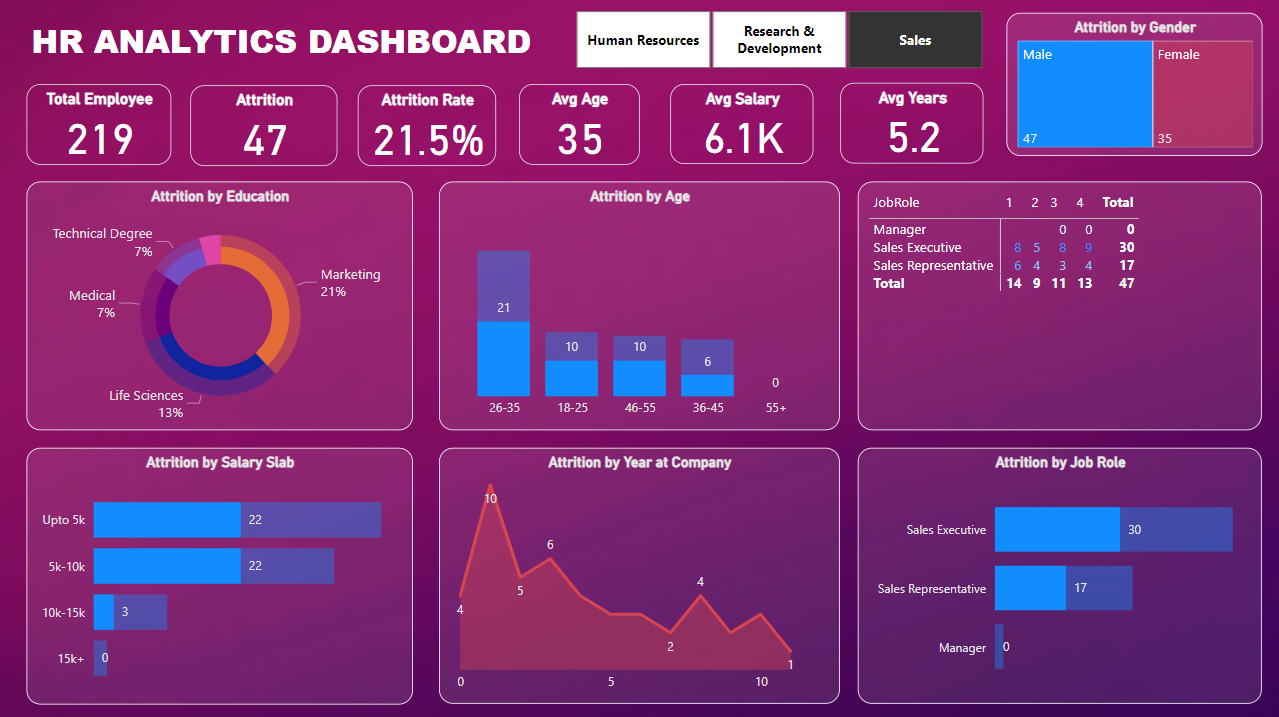

The dashboard page shown, as its layout file describes it:
{"tool":"powerbi","page":{"name":"Page 1","canvas":[1280,720],"ordinal":0},"visuals":[{"type":"card","title":"Total Employee","fields":{"Values":["CountNonNull(HR_Analytics.EmpID)"]},"box":[27.7,84.5,144.8,80.8],"z":0},{"type":"card","title":"Attrition","fields":{"Values":["Sum(HR_Analytics.AttritionCount)"]},"box":[191.8,85.7,147.2,80.8],"z":1000},{"type":"card","title":"Avg Age","fields":{"Values":["Avg(HR_Analytics.Age)"]},"box":[520,84.5,120.6,80.8],"z":2000},{"type":"card","title":"Attrition Rate","fields":{"Values":["HR_Analytics.AttritionRate"]},"box":[358.3,85.7,138.7,80.8],"z":3000},{"type":"card","title":"Avg Salary","fields":{"Values":["Avg(HR_Analytics.MonthlyIncome)"]},"box":[670.8,84.5,143.6,79.6],"z":4000},{"type":"card","title":"Avg Years","fields":{"Values":["Avg(HR_Analytics.YearsAtCompany)"]},"box":[840.9,83.2,143.6,80.8],"z":5000},{"type":"donutChart","title":"Attrition by Education","fields":{"Category":["HR_Analytics.EducationField"],"Y":["Sum(HR_Analytics.AttritionCount)"]},"box":[27.7,182.2,386.1,248.5],"z":6000},{"type":"columnChart","title":"Attrition by Age","fields":{"Category":["HR_Analytics.AgeGroup"],"Y":["Sum(HR_Analytics.AttritionCount)"]},"box":[440.4,182.2,400.5,248.5],"z":7000},{"type":"pivotTable","fields":{"Rows":["HR_Analytics.JobRole"],"Columns":["HR_Analytics.JobSatisfaction"],"Values":["Sum(HR_Analytics.AttritionCount)"]},"box":[859,182.2,404.2,248.5],"z":8000},{"type":"clusteredBarChart","title":"Attrition by Salary Slab","fields":{"Category":["HR_Analytics.SalarySlab"],"Y":["Sum(HR_Analytics.AttritionCount)"]},"box":[27.7,448.8,386.1,257],"z":8001},{"type":"clusteredBarChart","title":"Attrition by Job Role","fields":{"Y":["Sum(HR_Analytics.AttritionCount)"],"Category":["HR_Analytics.JobRole"]},"box":[859,448.8,404.2,255.8],"z":8002},{"type":"areaChart","title":"Attrition by Year at Company","fields":{"Category":["HR_Analytics.YearsAtCompany"],"Y":["Sum(HR_Analytics.AttritionCount)"]},"box":[440.4,448.8,400.5,255.8],"z":8003},{"type":"treemap","title":"Attrition by Gender","fields":{"Group":["HR_Analytics.Gender"],"Values":["Sum(HR_Analytics.AttritionCount)"]},"box":[1007.4,13.3,255.8,143.6],"z":8004},{"type":"slicer","fields":{"Values":["HR_Analytics.Department"]},"box":[551.3,4.8,456,71.2],"z":8005},{"type":"textbox","box":[27.7,13.3,545.3,55.5],"z":8006}]}

Visuals, with their boxes in screenshot pixels (x1, y1, x2, y2), scaled from the page's 1280x720 canvas onto the 1279x717 screenshot:
"Total Employee" card: (left=28, top=84, right=172, bottom=165)
"Attrition" card: (left=192, top=85, right=339, bottom=166)
"Avg Age" card: (left=520, top=84, right=640, bottom=165)
"Attrition Rate" card: (left=358, top=85, right=497, bottom=166)
"Avg Salary" card: (left=670, top=84, right=814, bottom=163)
"Avg Years" card: (left=840, top=83, right=984, bottom=163)
"Attrition by Education" donutChart: (left=28, top=181, right=413, bottom=429)
"Attrition by Age" columnChart: (left=440, top=181, right=840, bottom=429)
pivotTable - HR_Analytics.JobRole x HR_Analytics.JobSatisfaction: (left=858, top=181, right=1262, bottom=429)
"Attrition by Salary Slab" clusteredBarChart: (left=28, top=447, right=413, bottom=703)
"Attrition by Job Role" clusteredBarChart: (left=858, top=447, right=1262, bottom=702)
"Attrition by Year at Company" areaChart: (left=440, top=447, right=840, bottom=702)
"Attrition by Gender" treemap: (left=1007, top=13, right=1262, bottom=156)
slicer - HR_Analytics.Department: (left=551, top=5, right=1007, bottom=76)
textbox: (left=28, top=13, right=573, bottom=69)
